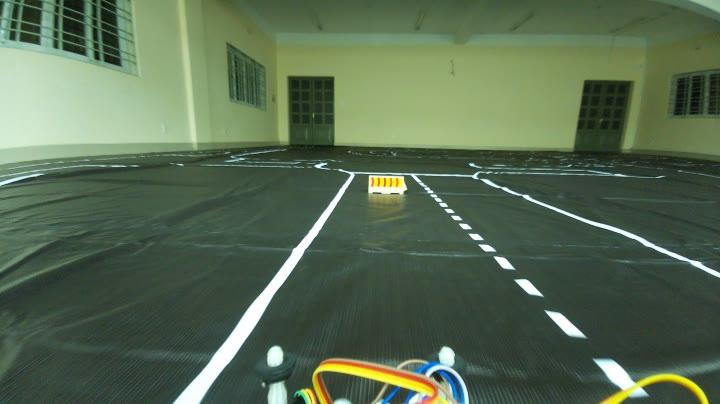roadblock: (366, 168, 404, 194)
